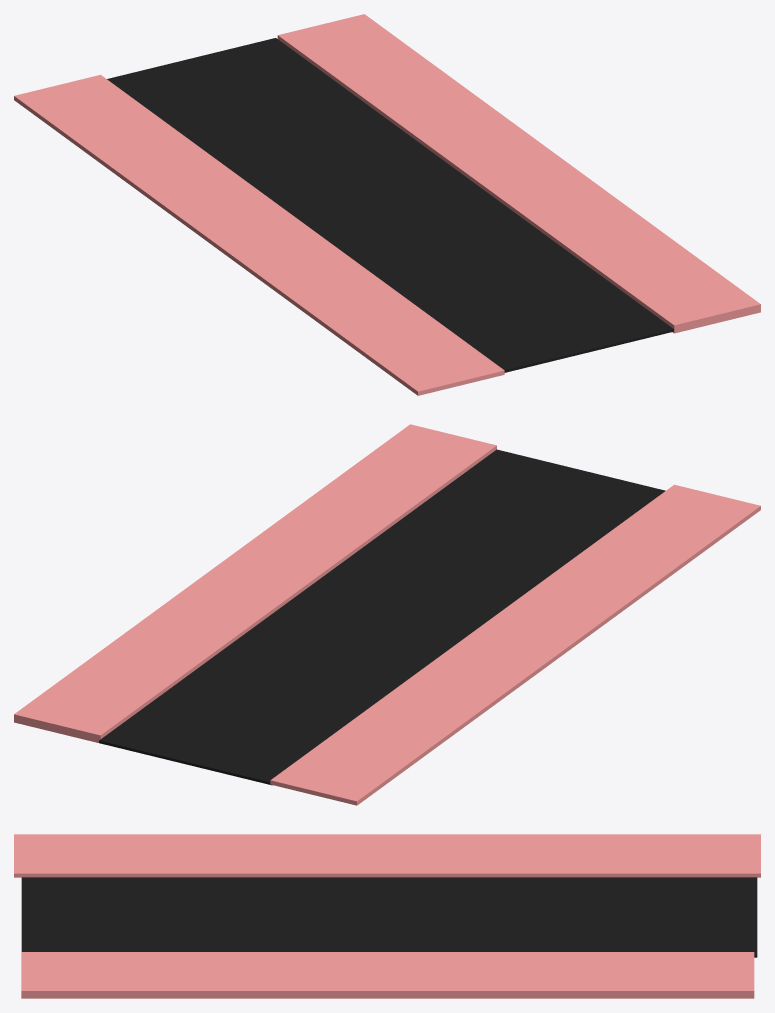
File: Road.obj
3 renders of one model, top to bottom at view 1: azimuth 30°, elevation 25°; view 2: azimuth 150°, elevation 25°; view 3: azimuth 270°, elevation 25°, orthographic. The views are drawn at different scales.
Visible parts, largest first — view 1: Cube_Cube_Material.004, Cube_Cube_Material.002; view 2: Cube_Cube_Material.004, Cube_Cube_Material.002; view 3: Cube_Cube_Material.004, Cube_Cube_Material.002.
Boxes of the visible parts, x1,y1,x2,y2 form: Cube_Cube_Material.004: (14, 14, 760, 395); Cube_Cube_Material.002: (107, 38, 673, 372); Cube_Cube_Material.004: (14, 424, 760, 805); Cube_Cube_Material.002: (99, 449, 665, 785); Cube_Cube_Material.004: (14, 834, 760, 998); Cube_Cube_Material.002: (21, 877, 757, 957).
Size of the model in its own units: 8 by 0.1826 by 16.14.
